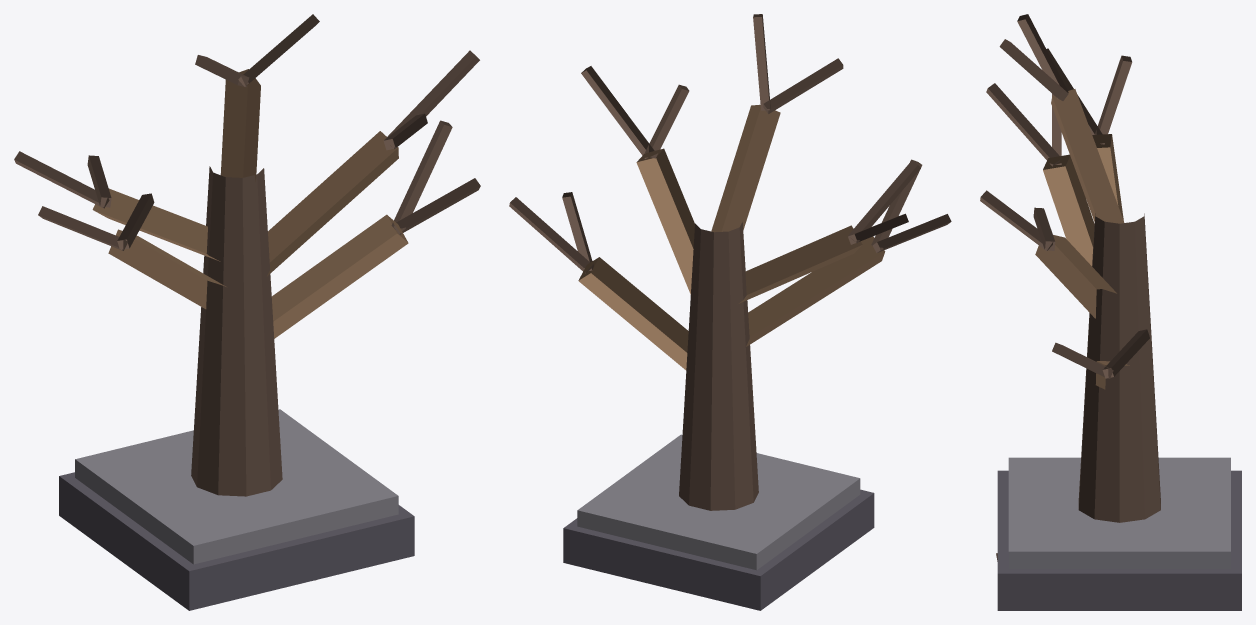
The model's file is dead_tree.glb.
The picture shows the model from 3 angles, left to right: view 1: azimuth 30°, elevation 25°; view 2: azimuth 150°, elevation 25°; view 3: azimuth 270°, elevation 25°; orthographic projection. The views are drawn at different scales.
Visible parts, largest first — view 1: Ancient Dead Tree; view 2: Ancient Dead Tree; view 3: Ancient Dead Tree.
Part boxes in pixels (x1,y1,x2,y2): Ancient Dead Tree: (14, 14, 480, 610); Ancient Dead Tree: (509, 14, 951, 610); Ancient Dead Tree: (980, 14, 1241, 610).
Size of the model in its own units: 3.86 by 4.52 by 2.04.
